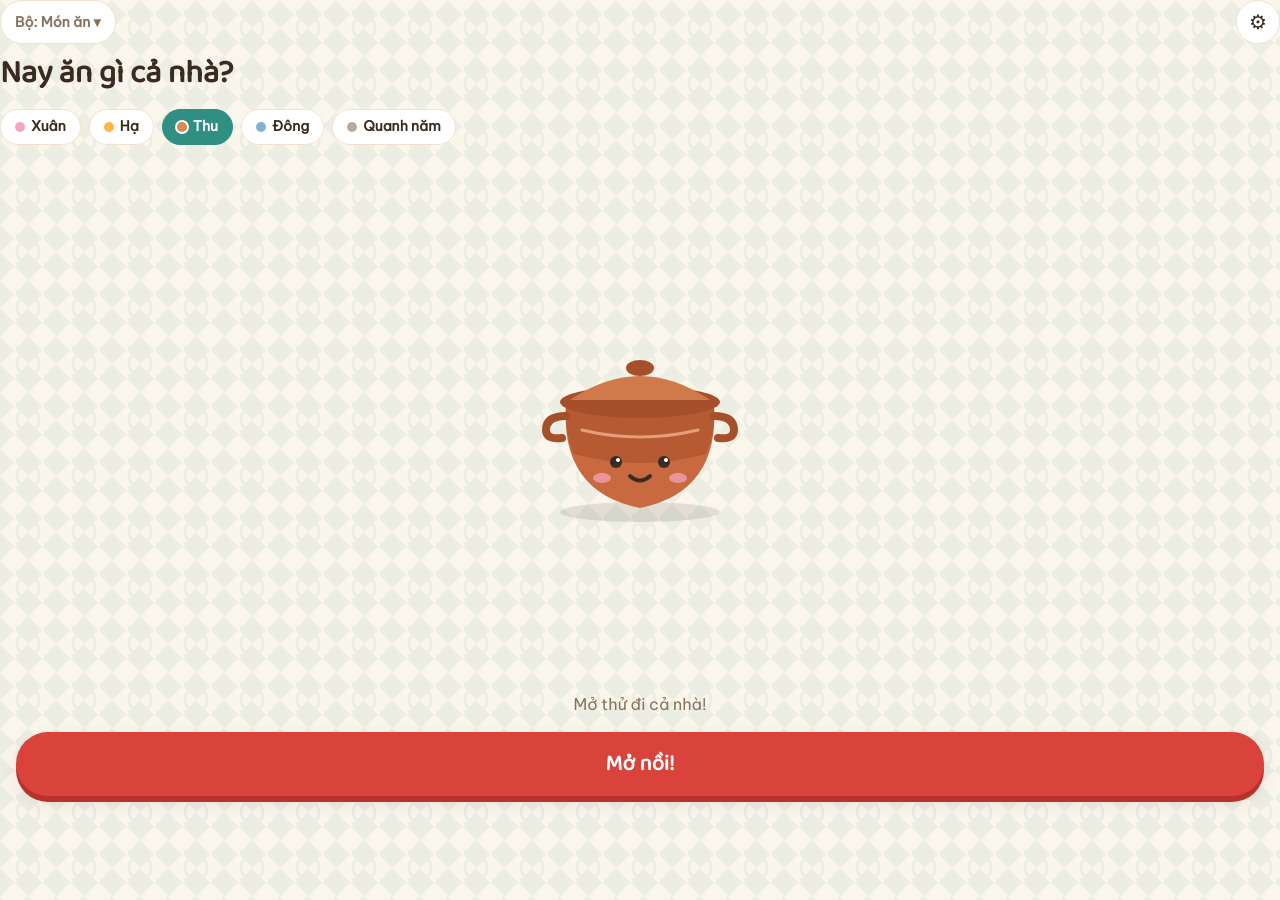
SpinScreen › giảm chuyển động: mâm hiện sau 300ms
The image size is (1280, 900).
What coordinates should you click on to do the following:
click the button "Mở nồi!"
I would click on:
 (640, 764)
Its box is [16,732,1264,796].
Wait 370 ms
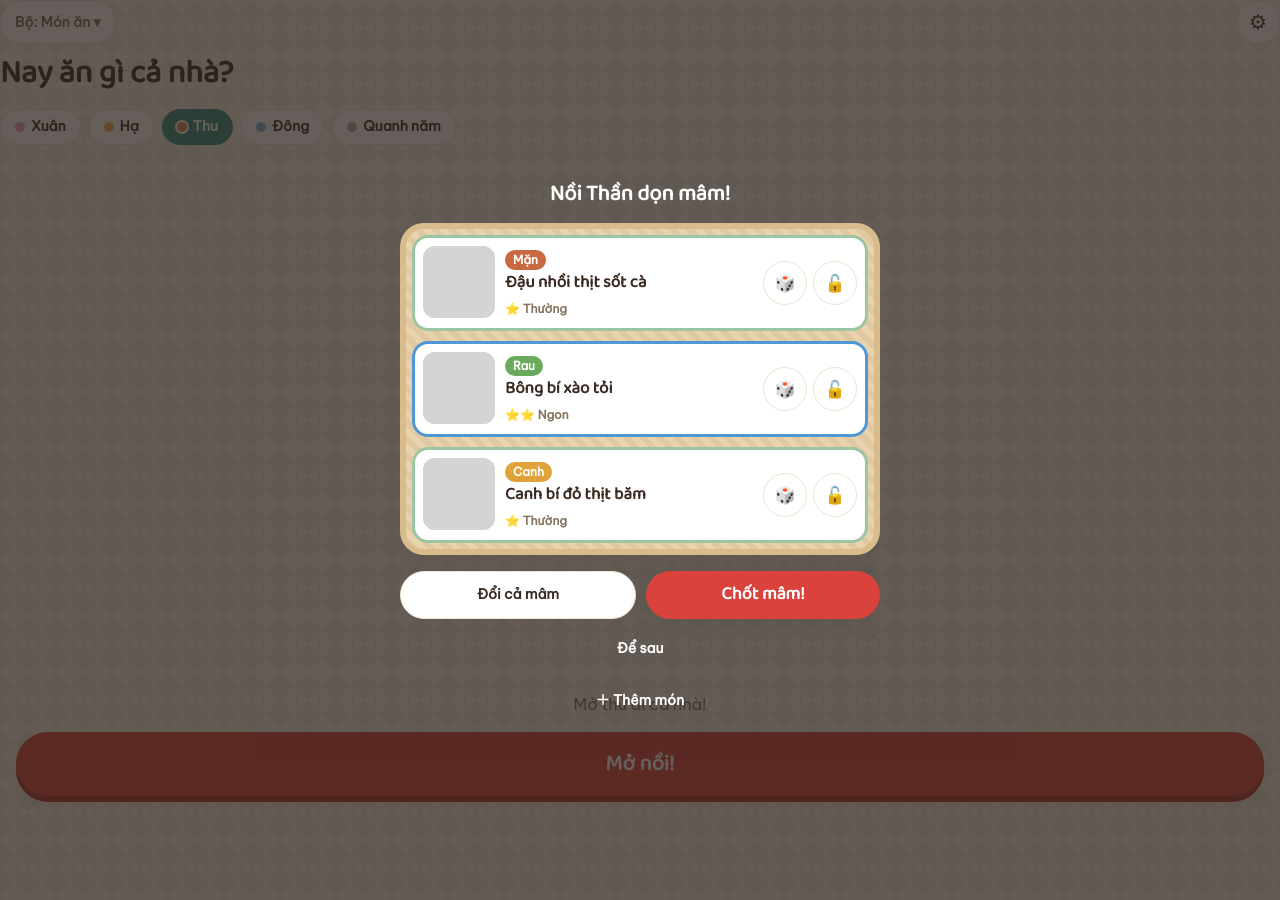
Expected: the number of list items is 3, [412,234,868,330]; [412,340,868,436]; [412,446,868,542]
Expected: the button "Chốt mâm!" is enabled, [646,570,880,618]
